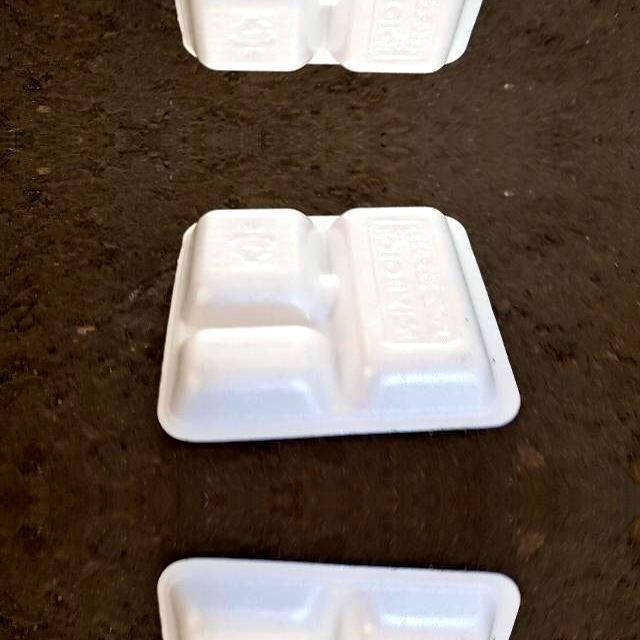Styrofoam: (158, 205, 522, 443), (157, 206, 521, 442), (158, 557, 521, 640), (157, 558, 521, 640), (158, 0, 521, 75), (174, 0, 483, 74)
